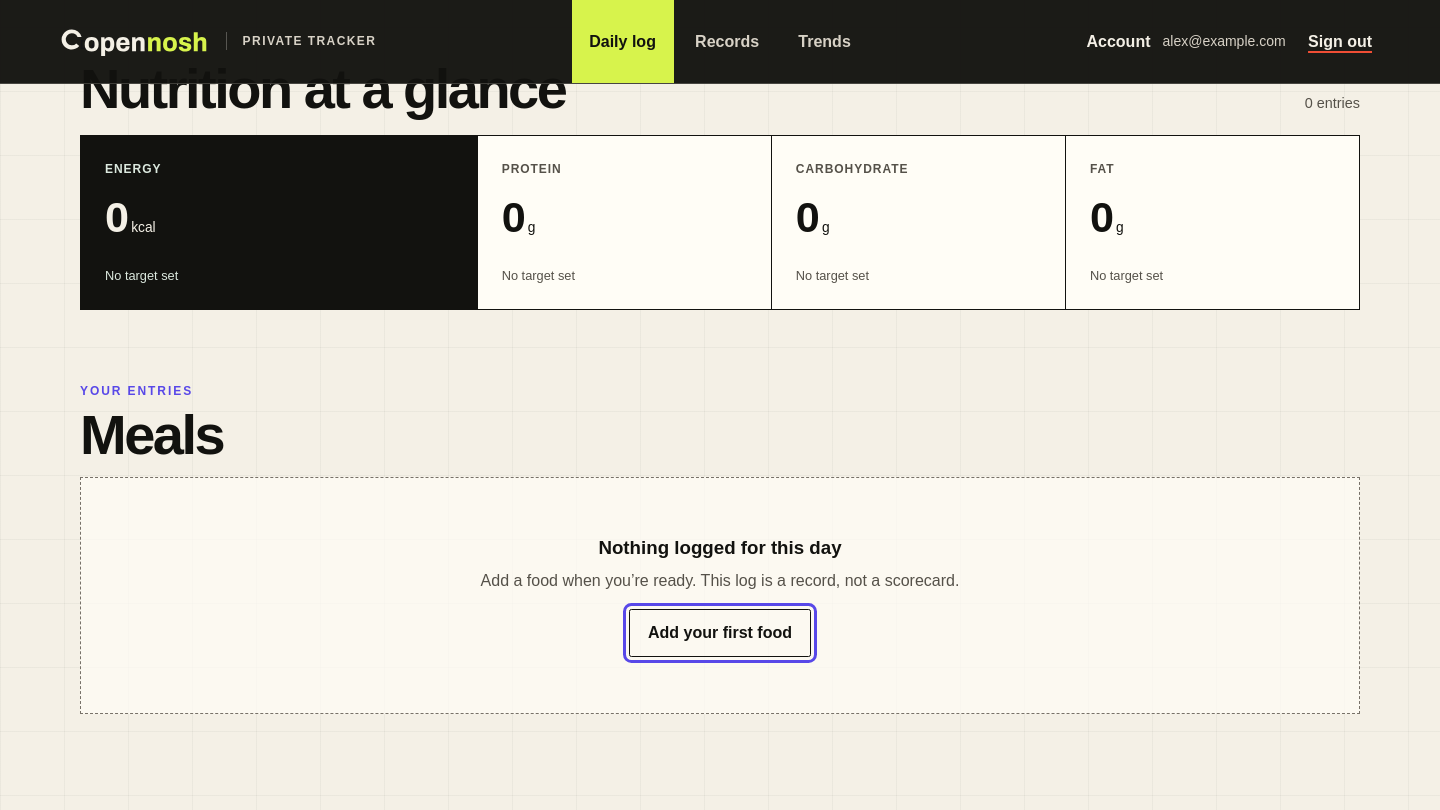
it: daily nutrition log › closes the add-food dialog with Escape and restores focus
(page scrolled)
Click the button "Add your first food".
click(720, 633)  # box 629,609 -> 811,657
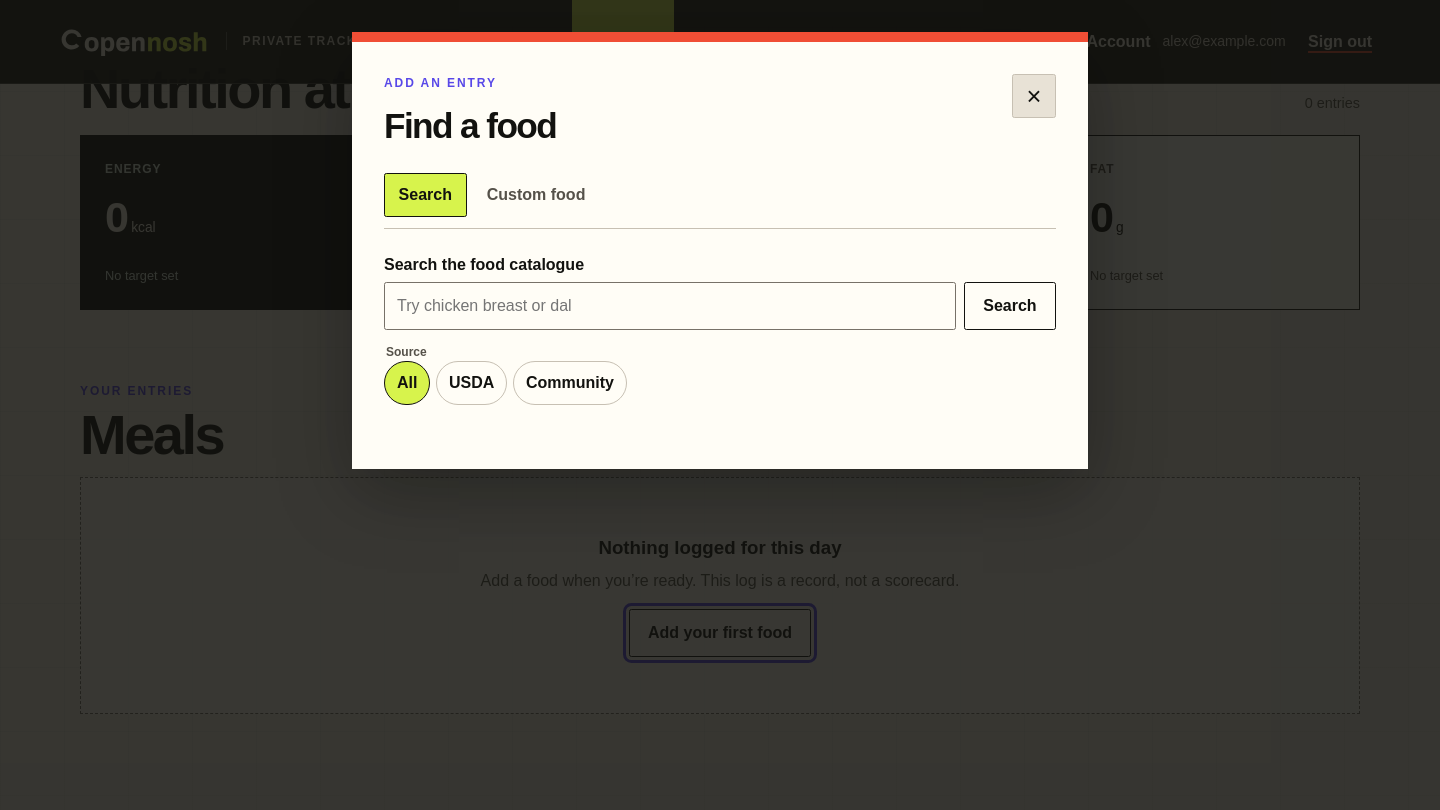
Press Escape in the dialog "Find a food", box 352,32 -> 1088,469
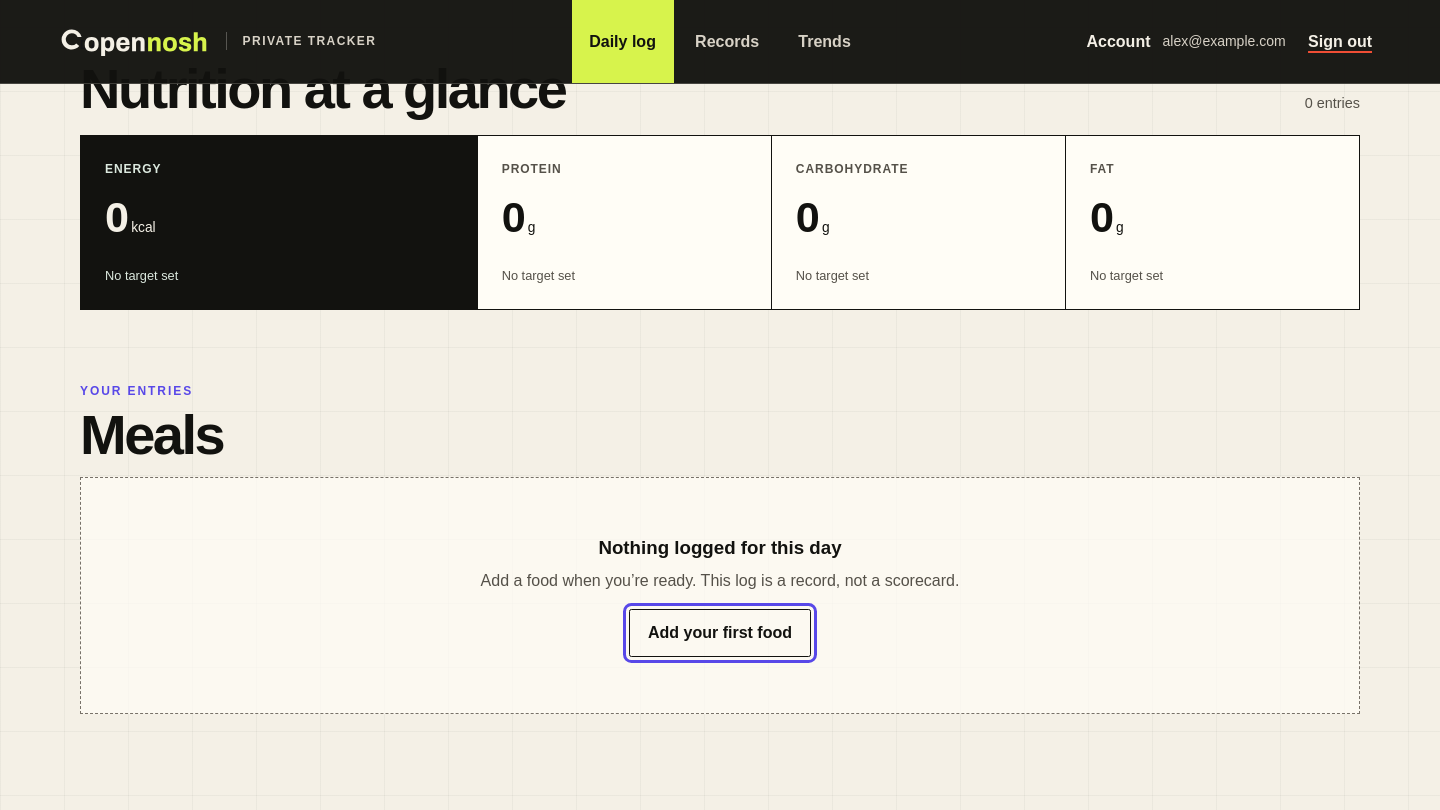
Expected: the heading "Find a food" is gone
